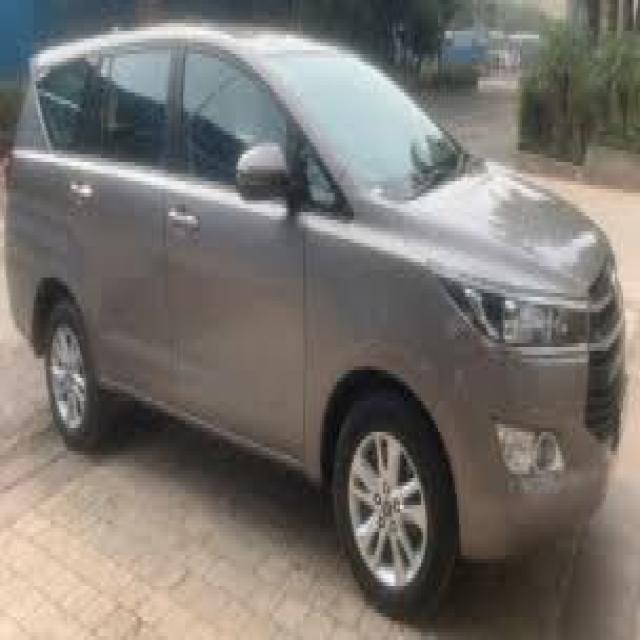light_vehicle: (5, 22, 627, 621)
